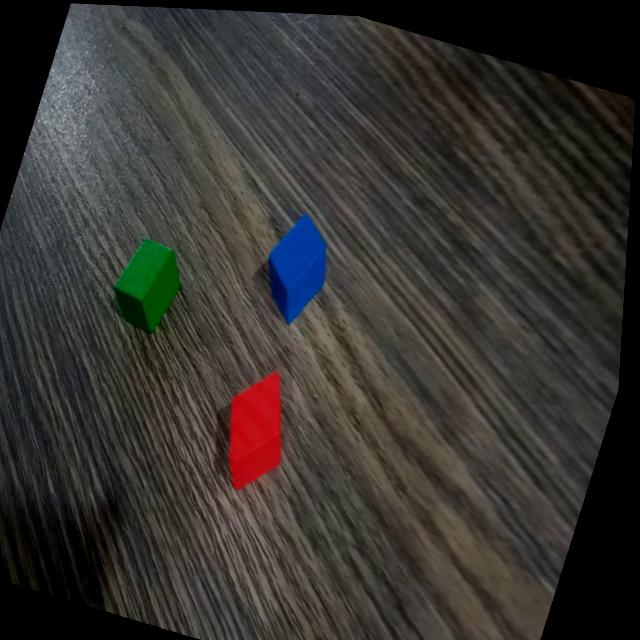cube: (209, 353, 313, 496), (252, 199, 349, 328), (105, 228, 197, 338)
